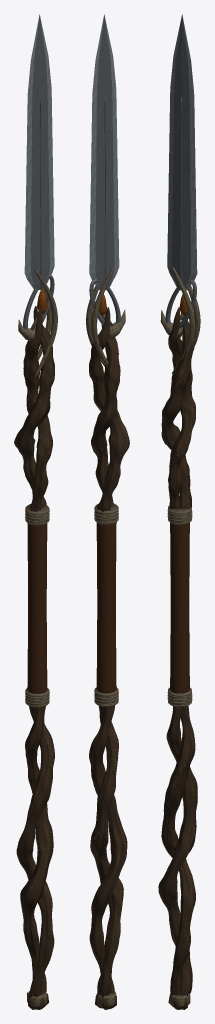
Rendered from thornbound-staff.glb.
The picture shows the model from 3 angles, left to right: view 1: azimuth 30°, elevation 25°; view 2: azimuth 210°, elevation 25°; view 3: azimuth 330°, elevation 25°; orthographic projection.
Parts seen in each view (by area): view 1: ThornboundStaff; view 2: ThornboundStaff; view 3: ThornboundStaff.
Part boxes in pixels (<box>): ThornboundStaff: <box>14,14,57,1009</box>; ThornboundStaff: <box>86,14,129,1009</box>; ThornboundStaff: <box>158,14,200,1009</box>.
Size of the model in its own units: 0.0985 by 2.53 by 0.0829.
1 material, 1 textured.
